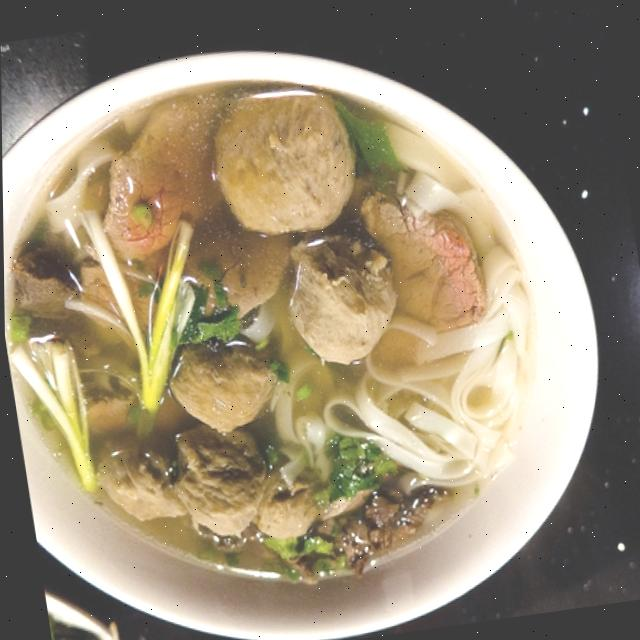面条主食: (0, 36, 624, 640)
